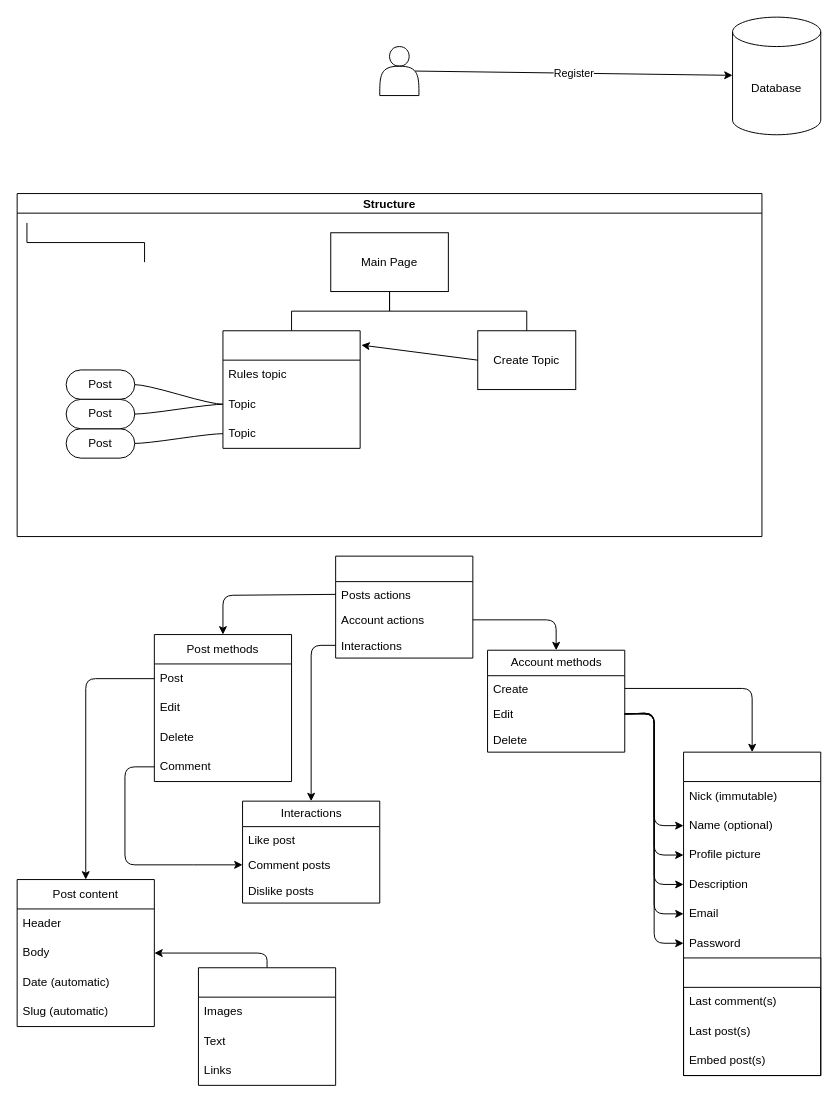
The diagram is 838 pixels wide and 1103 high, and some of its shapes have lost their labels. Here are the shapes that lost their labels. From the top down, the box of each, then its label:
(222, 330, 360, 448): Topics
(335, 555, 473, 658): User actions
(683, 751, 821, 1076): Account
(197, 967, 336, 1085): Possible content
(683, 957, 821, 1076): Dinamic info
